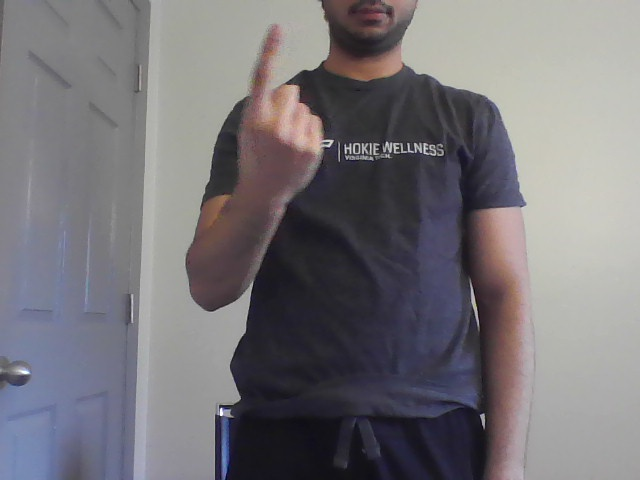one: (233, 19, 327, 204)
